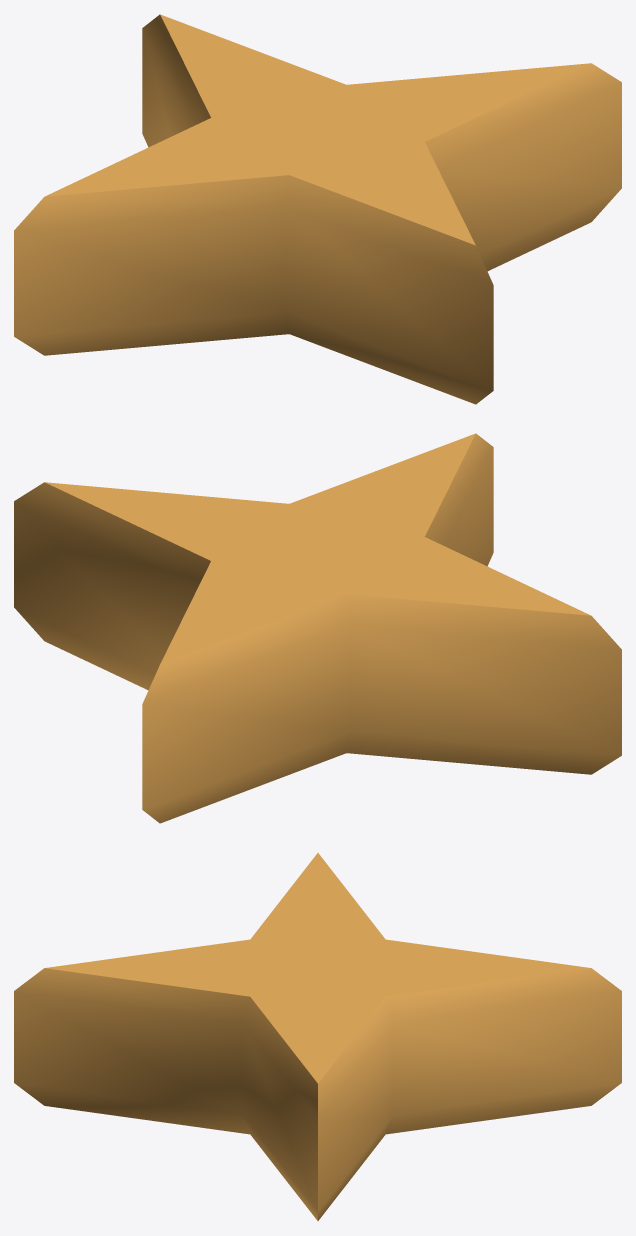
File: Star_4P_02.fbx
3 views of the same model, one above another, from view 1: azimuth 30°, elevation 25°; view 2: azimuth 150°, elevation 25°; view 3: azimuth 270°, elevation 25° (orthographic). The views are drawn at different scales.
Visible parts, largest first — view 1: Star_4P_02; view 2: Star_4P_02; view 3: Star_4P_02.
Boxes of the visible parts, <box> form: Star_4P_02: <box>14,14,621,404</box>; Star_4P_02: <box>14,433,621,823</box>; Star_4P_02: <box>14,853,621,1220</box>.
Bounding box in the file's own units: 400 × 100 × 400.
